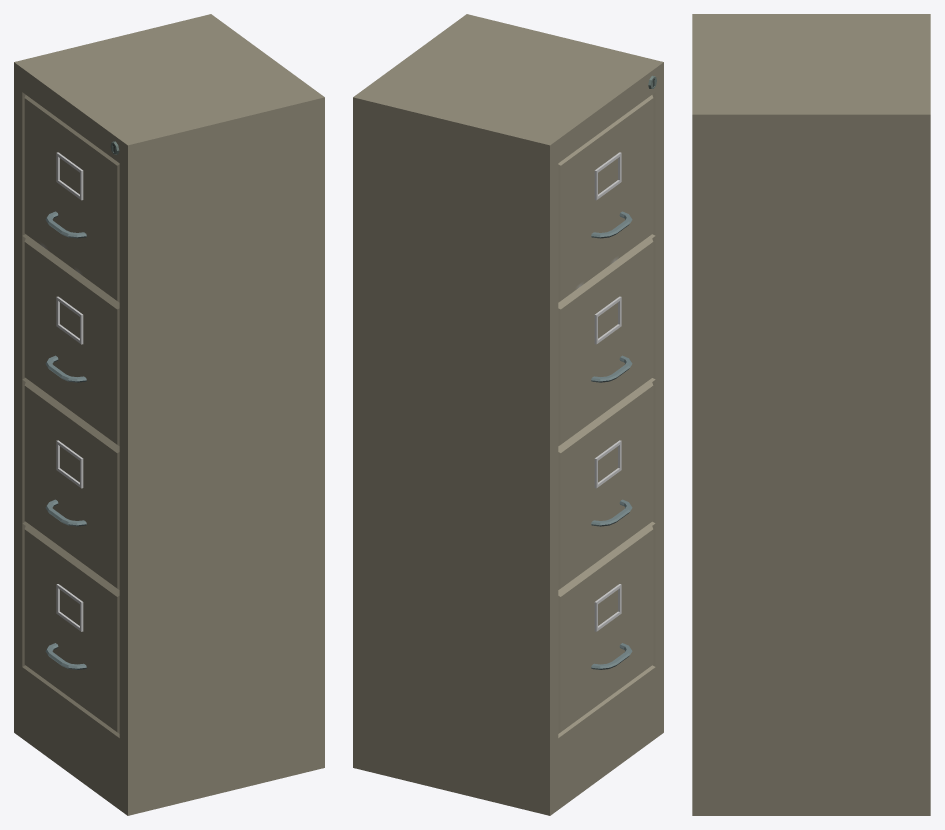
Rendered from office cabinet.fbx.
The picture shows the model from 3 angles, left to right: view 1: azimuth 30°, elevation 25°; view 2: azimuth 150°, elevation 25°; view 3: azimuth 270°, elevation 25°; orthographic projection. The views are drawn at different scales.
Parts seen in each view (by area): view 1: Cube; view 2: Cube; view 3: Cube.
Part boxes in pixels (<box>): Cube: <box>14,14,324,815</box>; Cube: <box>353,14,663,815</box>; Cube: <box>692,14,930,815</box>.
Size of the model in its own units: 43.33 by 130 by 40.
1 material, 1 textured.
